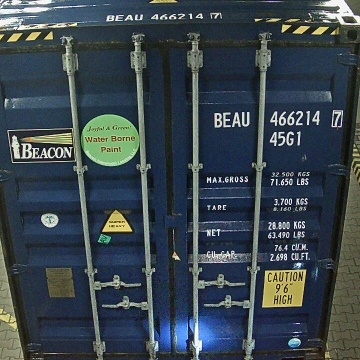serial_id: (214, 110, 342, 127)
